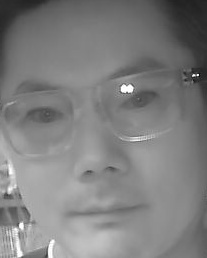eye: (23, 105, 63, 127)
glass: (96, 64, 190, 143), (1, 85, 79, 158)
mouth: (60, 189, 148, 238)
